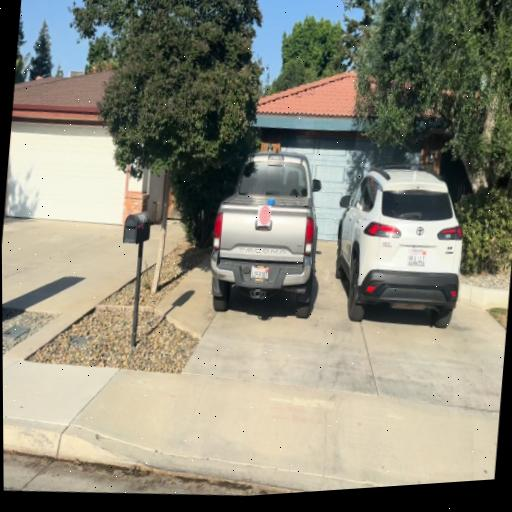bullseye: (258, 205, 271, 225)
